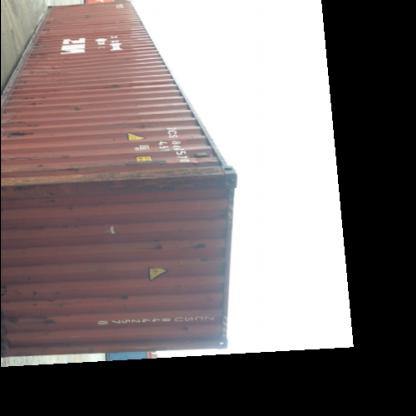Damage: (90, 162, 227, 199), (1, 288, 76, 336), (1, 160, 87, 186), (26, 18, 60, 78), (13, 188, 79, 210), (1, 112, 44, 145), (20, 218, 78, 236), (132, 115, 160, 143), (6, 87, 44, 107), (192, 236, 215, 263), (146, 234, 172, 254), (102, 79, 134, 93), (118, 289, 134, 310), (66, 104, 90, 117), (176, 324, 197, 337), (84, 8, 98, 22)
